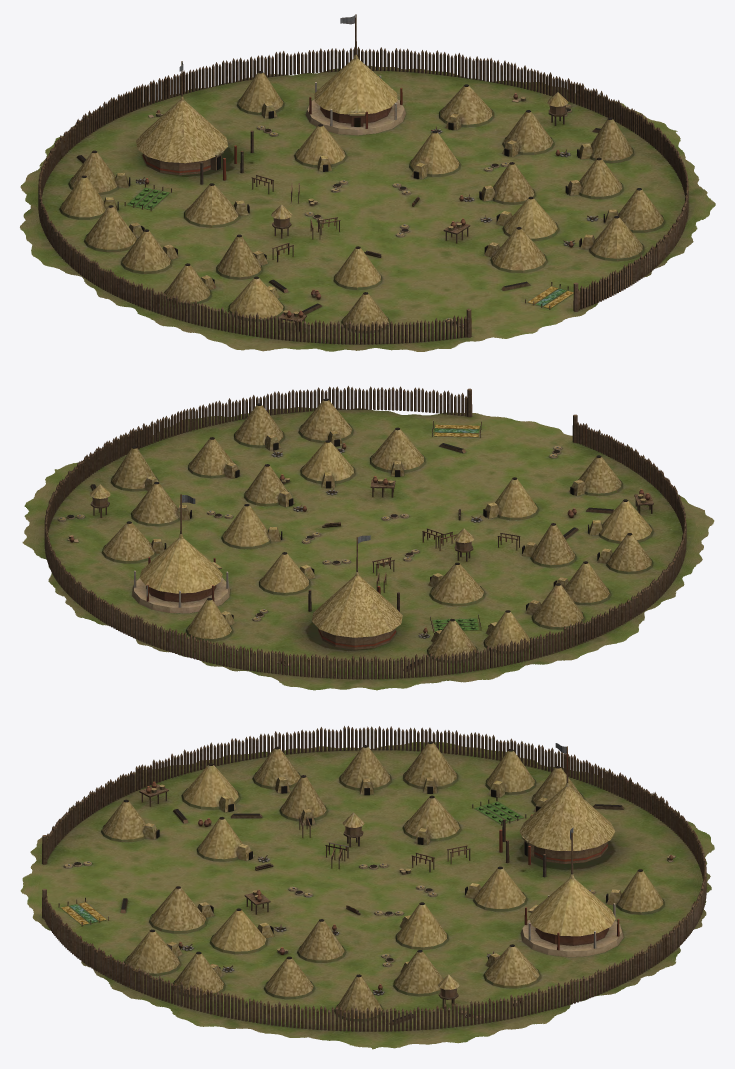
Rendered from stone-town-big-a-korea.glb.
3 renders of one model, top to bottom at view 1: azimuth 30°, elevation 25°; view 2: azimuth 150°, elevation 25°; view 3: azimuth 270°, elevation 25°, orthographic. The views are drawn at different scales.
Parts seen in each view (by area): view 1: LOD0; view 2: LOD0; view 3: LOD0.
Boxes of the visible parts, x1,y1,x2,y2 form: LOD0: (20, 14, 715, 351); LOD0: (22, 386, 714, 690); LOD0: (20, 726, 714, 1049).
Size of what is drawn, in the model's own units: 8.04 by 1.25 by 7.64.
Materials: 3 (3 with a texture image).
